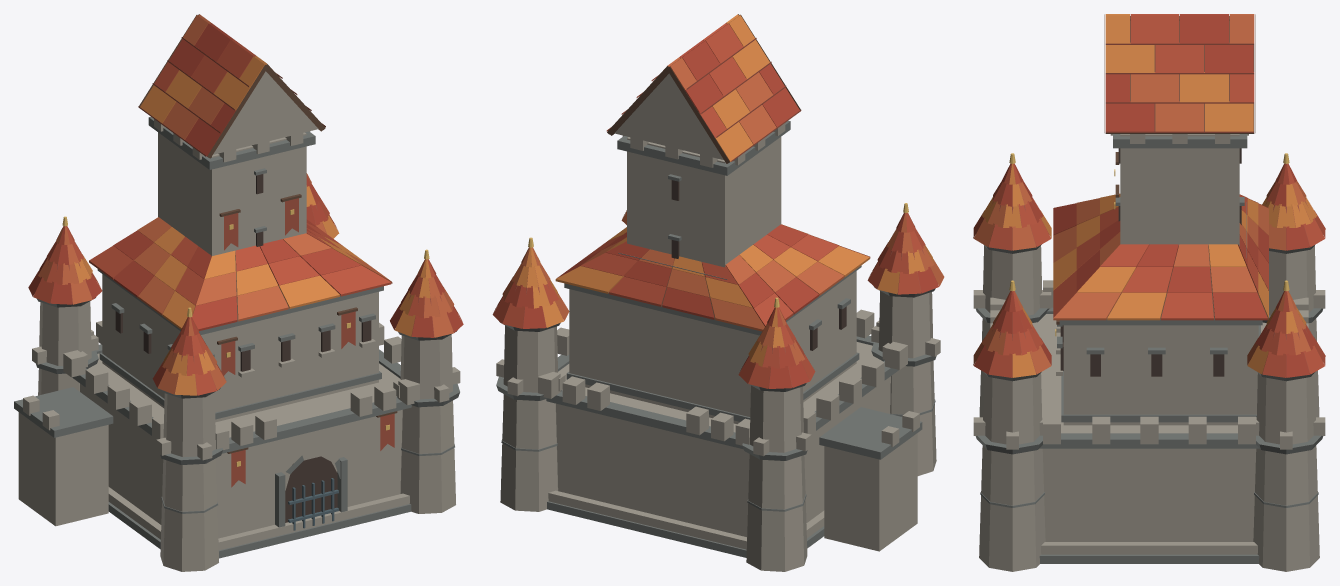
Rendered from ENV_Castle_LOD1.glb.
3 renders of one model, left to right at view 1: azimuth 30°, elevation 25°; view 2: azimuth 150°, elevation 25°; view 3: azimuth 270°, elevation 25°, orthographic. The views are drawn at different scales.
Visible parts, largest first — view 1: ENV_Castle_LOD1_keep_stone, ENV_Castle_LOD1_walls_stone, ENV_Castle_LOD1_keep_roofTiles, ENV_Castle_LOD1_completion_stone, ENV_Castle_LOD1_towers_raised_roofTiles, ENV_Castle_LOD1_towers_raised_stone, ENV_Castle_LOD1_keep_stoneDark, ENV_Castle_LOD1_walls_stoneDark, ENV_Castle_LOD1_foundation_stone, ENV_Castle_LOD1_completion_stoneDark, ENV_Castle_LOD1_keep_roof, ENV_Castle_LOD1_foundation_stoneDark (+5 smaller); view 2: ENV_Castle_LOD1_keep_stone, ENV_Castle_LOD1_walls_stone, ENV_Castle_LOD1_keep_roofTiles, ENV_Castle_LOD1_completion_stone, ENV_Castle_LOD1_towers_raised_roofTiles, ENV_Castle_LOD1_towers_raised_stone, ENV_Castle_LOD1_keep_stoneDark, ENV_Castle_LOD1_walls_stoneDark, ENV_Castle_LOD1_foundation_stone, ENV_Castle_LOD1_completion_stoneDark, ENV_Castle_LOD1_foundation_stoneDark, ENV_Castle_LOD1_keep_woodDark (+2 smaller); view 3: ENV_Castle_LOD1_walls_stone, ENV_Castle_LOD1_keep_roofTiles, ENV_Castle_LOD1_keep_stone, ENV_Castle_LOD1_towers_raised_roofTiles, ENV_Castle_LOD1_towers_raised_stone, ENV_Castle_LOD1_keep_stoneDark, ENV_Castle_LOD1_walls_stoneDark, ENV_Castle_LOD1_completion_stone, ENV_Castle_LOD1_foundation_stone, ENV_Castle_LOD1_foundation_stoneDark, ENV_Castle_LOD1_keep_roof, ENV_Castle_LOD1_keep_woodDark (+3 smaller).
Boxes of the visible parts, x1=… form: ENV_Castle_LOD1_keep_stone: x1=102, y1=71, x2=378, y2=422; ENV_Castle_LOD1_walls_stone: x1=32, y1=334, x2=460, y2=571; ENV_Castle_LOD1_keep_roofTiles: x1=89, y1=14, x2=392, y2=330; ENV_Castle_LOD1_completion_stone: x1=18, y1=321, x2=419, y2=526; ENV_Castle_LOD1_towers_raised_roofTiles: x1=28, y1=173, x2=463, y2=395; ENV_Castle_LOD1_towers_raised_stone: x1=39, y1=301, x2=452, y2=457; ENV_Castle_LOD1_keep_stoneDark: x1=97, y1=117, x2=383, y2=419; ENV_Castle_LOD1_walls_stoneDark: x1=36, y1=344, x2=459, y2=527; ENV_Castle_LOD1_foundation_stone: x1=108, y1=487, x2=409, y2=550; ENV_Castle_LOD1_completion_stoneDark: x1=14, y1=387, x2=113, y2=437; ENV_Castle_LOD1_keep_roof: x1=138, y1=37, x2=355, y2=375; ENV_Castle_LOD1_foundation_stoneDark: x1=108, y1=502, x2=411, y2=558; ENV_Castle_LOD1_keep_stone: x1=569, y1=73, x2=856, y2=424; ENV_Castle_LOD1_walls_stone: x1=496, y1=326, x2=940, y2=571; ENV_Castle_LOD1_keep_roofTiles: x1=555, y1=14, x2=870, y2=331; ENV_Castle_LOD1_completion_stone: x1=538, y1=309, x2=919, y2=551; ENV_Castle_LOD1_towers_raised_roofTiles: x1=492, y1=210, x2=944, y2=388; ENV_Castle_LOD1_towers_raised_stone: x1=503, y1=291, x2=932, y2=452; ENV_Castle_LOD1_keep_stoneDark: x1=564, y1=120, x2=861, y2=421; ENV_Castle_LOD1_walls_stoneDark: x1=496, y1=335, x2=936, y2=511; ENV_Castle_LOD1_foundation_stone: x1=548, y1=490, x2=824, y2=549; ENV_Castle_LOD1_completion_stoneDark: x1=819, y1=407, x2=922, y2=459; ENV_Castle_LOD1_foundation_stoneDark: x1=547, y1=501, x2=824, y2=557; ENV_Castle_LOD1_keep_woodDark: x1=607, y1=14, x2=844, y2=319; ENV_Castle_LOD1_walls_stone: x1=973, y1=290, x2=1325, y2=571; ENV_Castle_LOD1_keep_roofTiles: x1=1053, y1=14, x2=1268, y2=320; ENV_Castle_LOD1_keep_stone: x1=1056, y1=134, x2=1258, y2=425; ENV_Castle_LOD1_towers_raised_roofTiles: x1=973, y1=163, x2=1325, y2=377; ENV_Castle_LOD1_towers_raised_stone: x1=983, y1=245, x2=1315, y2=444; ENV_Castle_LOD1_keep_stoneDark: x1=1057, y1=134, x2=1262, y2=422; ENV_Castle_LOD1_walls_stoneDark: x1=975, y1=307, x2=1323, y2=507; ENV_Castle_LOD1_completion_stone: x1=990, y1=280, x2=1308, y2=444; ENV_Castle_LOD1_foundation_stone: x1=1041, y1=542, x2=1257, y2=554; ENV_Castle_LOD1_foundation_stoneDark: x1=1039, y1=554, x2=1259, y2=563; ENV_Castle_LOD1_keep_roof: x1=1105, y1=43, x2=1254, y2=132; ENV_Castle_LOD1_keep_woodDark: x1=1056, y1=14, x2=1268, y2=324.
Bounding box in the file's own units: 15.11 × 18.16 × 12.09.
